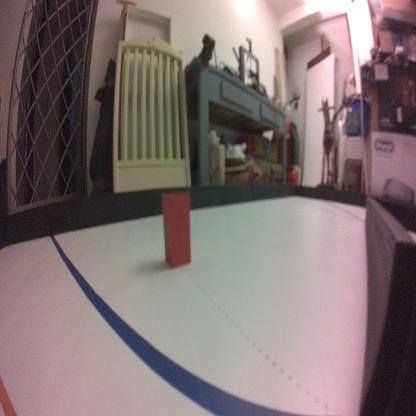red: (160, 189, 192, 271)
